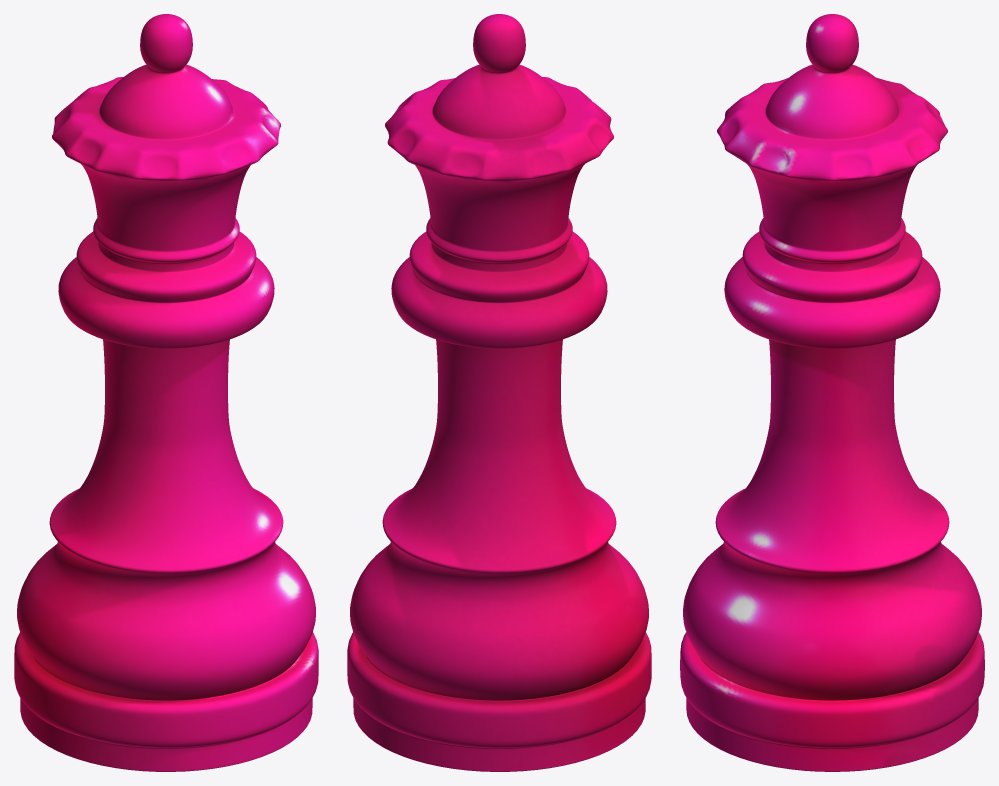
The model's file is queen.gltf.
The picture shows the model from 3 angles, left to right: view 1: azimuth 30°, elevation 25°; view 2: azimuth 150°, elevation 25°; view 3: azimuth 270°, elevation 25°; orthographic projection.
Parts seen in each view (by area): view 1: Object001.003; view 2: Object001.003; view 3: Object001.003.
Boxes of the visible parts, x1,y1,x2,y2 form: Object001.003: [14, 14, 318, 771]; Object001.003: [347, 14, 651, 771]; Object001.003: [680, 14, 984, 771].
Size of the model in its own units: 4.25 by 10.66 by 4.25.
Materials: 1 (1 with a texture image).
